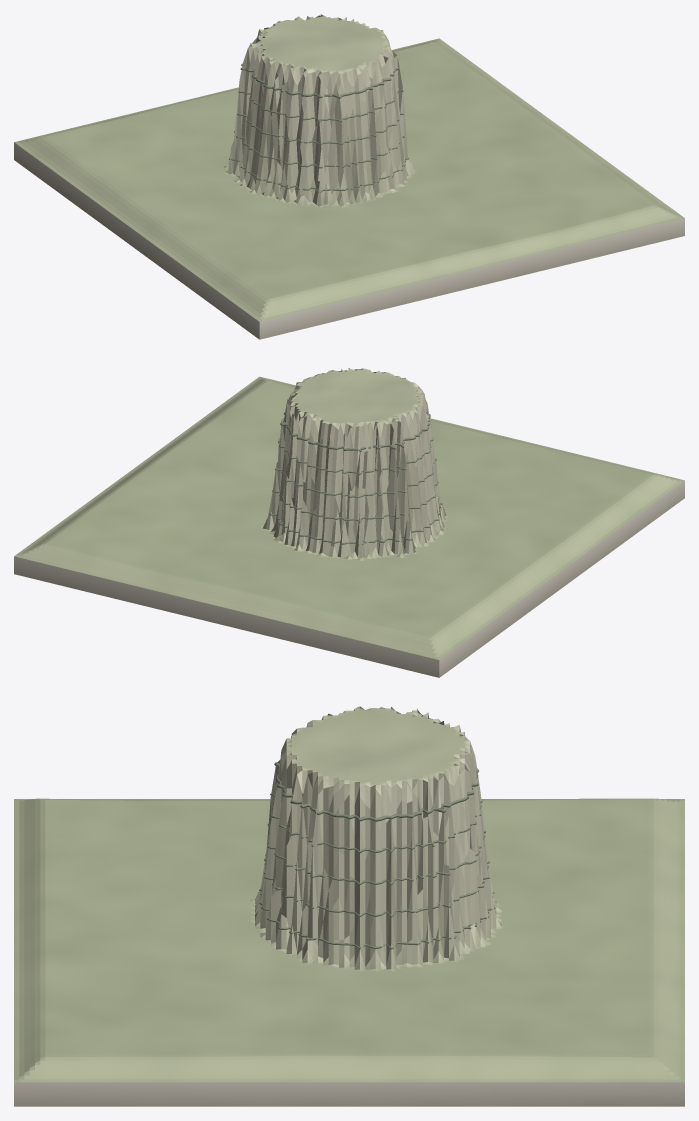
File: terrain-cliff.glb
3 renders of one model, top to bottom at view 1: azimuth 30°, elevation 25°; view 2: azimuth 150°, elevation 25°; view 3: azimuth 270°, elevation 25°, orthographic. The views are drawn at different scales.
Parts seen in each view (by area): view 1: Cliff_Surface, Cliff_DioramaBase, Cliff_Contours; view 2: Cliff_Surface, Cliff_DioramaBase, Cliff_Contours; view 3: Cliff_Surface, Cliff_DioramaBase, Cliff_Contours.
Part boxes in pixels (x1,y1,x2,y2): Cliff_Surface: (14,14,684,321); Cliff_DioramaBase: (14,142,684,339); Cliff_Contours: (229,63,409,192); Cliff_Surface: (14,368,684,659); Cliff_DioramaBase: (14,480,684,677); Cliff_Contours: (269,412,442,545); Cliff_Surface: (14,706,684,1082); Cliff_DioramaBase: (14,1082,684,1106); Cliff_Contours: (259,762,495,949).
Bounding box in the file's own units: 200 × 68.49 × 200.
